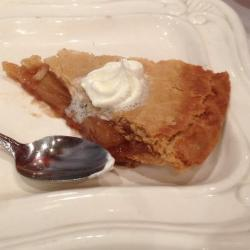apple_pie: (9, 41, 234, 179)
chantilly: (74, 57, 156, 114)
